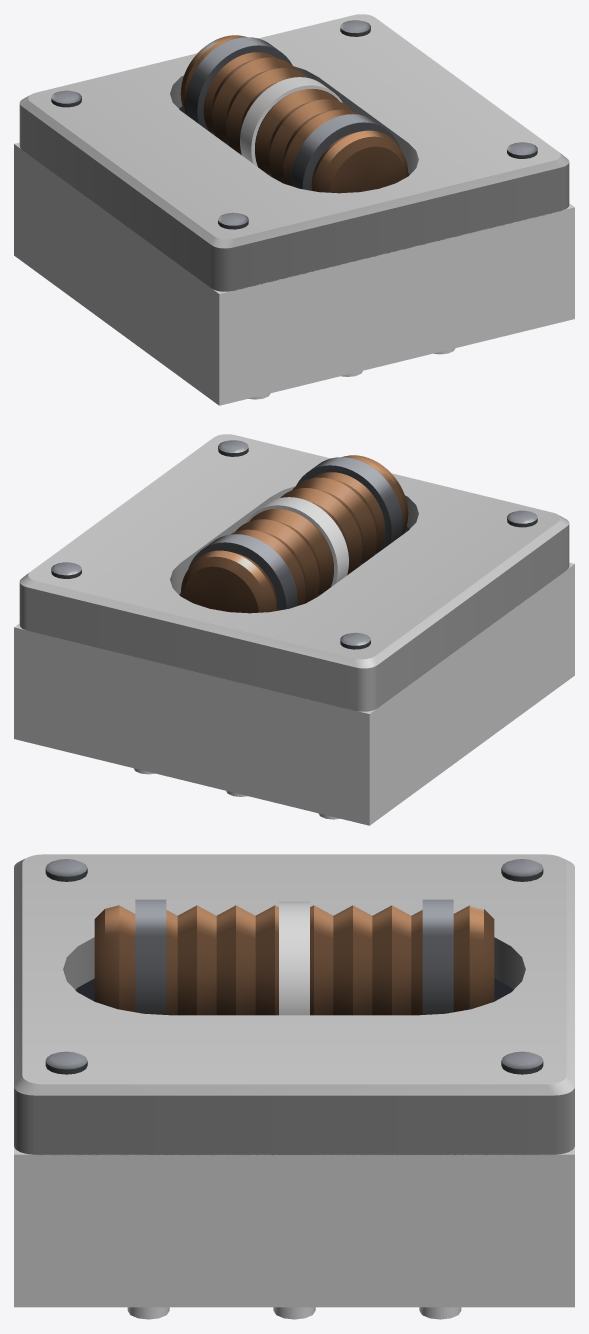
File: part_resistor.glb
3 renders of one model, top to bottom at view 1: azimuth 30°, elevation 25°; view 2: azimuth 150°, elevation 25°; view 3: azimuth 270°, elevation 25°, orthographic. The views are drawn at different scales.
Parts seen in each view (by area): view 1: Plattform, Gehaeuse, Korpus, Licht; view 2: Plattform, Gehaeuse, Korpus, Licht; view 3: Plattform, Gehaeuse, Korpus, Licht, Stecker.
Part boxes in pixels (bbox=[...]): Plattform: bbox=[19, 14, 569, 291]; Gehaeuse: bbox=[14, 142, 574, 405]; Korpus: bbox=[51, 20, 537, 229]; Licht: bbox=[240, 77, 342, 166]; Plattform: bbox=[19, 434, 569, 711]; Gehaeuse: bbox=[14, 562, 574, 825]; Korpus: bbox=[51, 440, 537, 649]; Licht: bbox=[246, 497, 348, 586]; Plattform: bbox=[14, 854, 574, 1155]; Gehaeuse: bbox=[14, 1146, 574, 1307]; Korpus: bbox=[45, 859, 543, 1074]; Licht: bbox=[279, 901, 309, 1015]; Stecker: bbox=[127, 1307, 461, 1319].
Bounding box in the file's own units: 0.8 × 0.538 × 0.8.
